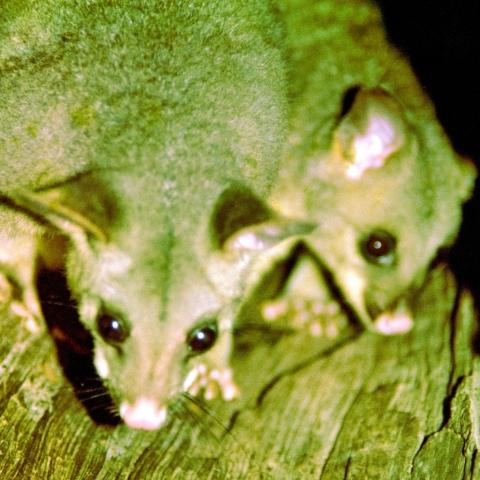small_animal: (0, 0, 308, 431), (237, 0, 480, 341)
